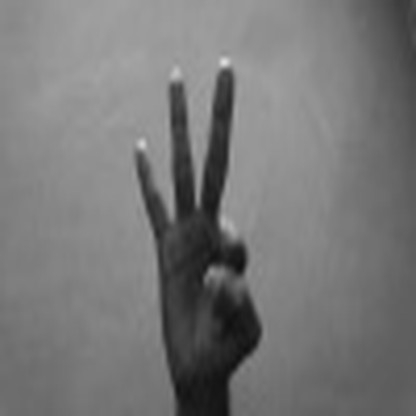f: (132, 46, 262, 377)
